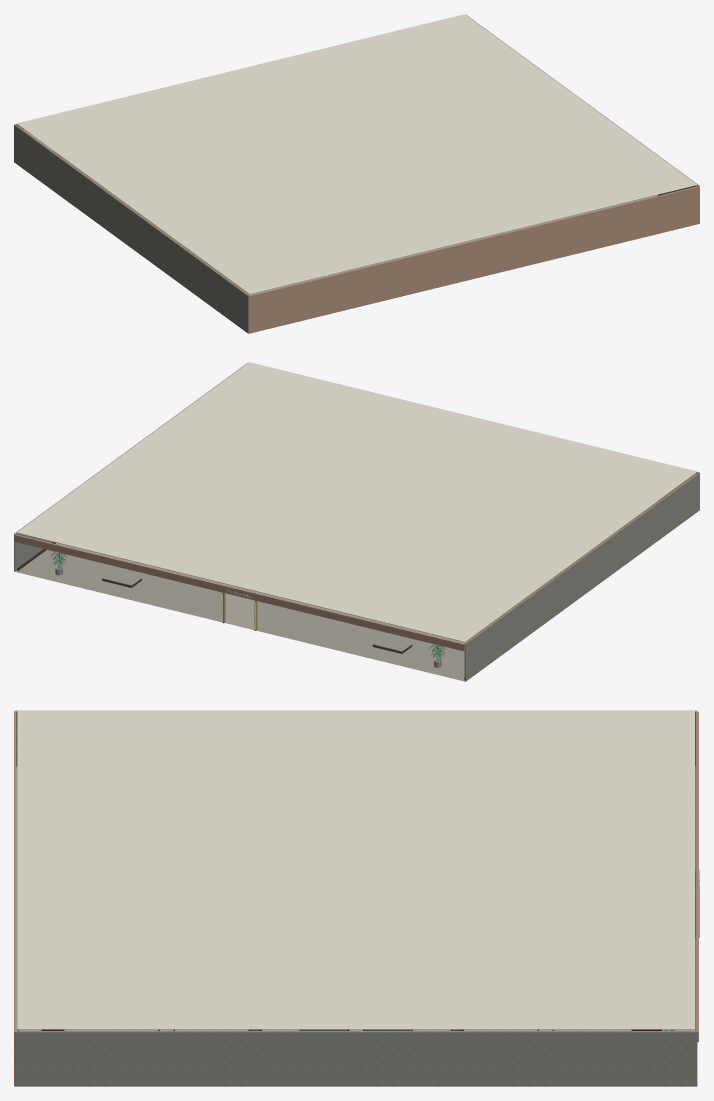
Rendered from shoe-salon.glb.
The picture shows the model from 3 angles, top to bottom: view 1: azimuth 30°, elevation 25°; view 2: azimuth 150°, elevation 25°; view 3: azimuth 270°, elevation 25°; orthographic projection. The views are drawn at different scales.
Visible parts, largest first — view 1: Acoustic ceiling field.005, Batched AUR-L3-SHOE-SALON::Tenant shoe-salon, Batched AUR-L3-SHOE-SALON::Travertine, Batched AUR-L3-SHOE-SALON::Cream marble; view 2: Acoustic ceiling field.005, Batched AUR-L3-SHOE-SALON::Cream marble, Batched AUR-L3-SHOE-SALON::Tenant glass, Batched AUR-L3-SHOE-SALON::Travertine, Batched AUR-L3-SHOE-SALON::Tenant shoe-salon, Batched AUR-L3-SHOE-SALON::Bronze; view 3: Acoustic ceiling field.005, Batched AUR-L3-SHOE-SALON::Travertine, Batched AUR-L3-SHOE-SALON::Tenant shoe-salon, Batched AUR-L3-SHOE-SALON::Cream marble, Batched AUR-L3-SHOE-SALON::Bronze.
Boxes of the visible parts, left/top/right/bottom form: Acoustic ceiling field.005: left=16, top=14, right=697, bottom=294; Batched AUR-L3-SHOE-SALON::Tenant shoe-salon: left=14, top=124, right=699, bottom=333; Batched AUR-L3-SHOE-SALON::Travertine: left=14, top=15, right=699, bottom=333; Batched AUR-L3-SHOE-SALON::Cream marble: left=55, top=152, right=657, bottom=295; Acoustic ceiling field.005: left=16, top=362, right=697, bottom=642; Batched AUR-L3-SHOE-SALON::Cream marble: left=15, top=500, right=658, bottom=681; Batched AUR-L3-SHOE-SALON::Tenant glass: left=15, top=542, right=464, bottom=680; Batched AUR-L3-SHOE-SALON::Travertine: left=14, top=363, right=699, bottom=681; Batched AUR-L3-SHOE-SALON::Tenant shoe-salon: left=14, top=472, right=699, bottom=651; Batched AUR-L3-SHOE-SALON::Bronze: left=17, top=473, right=696, bottom=643; Acoustic ceiling field.005: left=17, top=710, right=694, bottom=1029; Batched AUR-L3-SHOE-SALON::Travertine: left=15, top=710, right=697, bottom=1086; Batched AUR-L3-SHOE-SALON::Tenant shoe-salon: left=14, top=711, right=698, bottom=1086; Batched AUR-L3-SHOE-SALON::Cream marble: left=16, top=766, right=695, bottom=1031; Batched AUR-L3-SHOE-SALON::Bronze: left=18, top=870, right=699, bottom=1031.
Size of the model in its own units: 60.16 by 4.97 by 54.29.
Materials: 16 (5 with a texture image).
